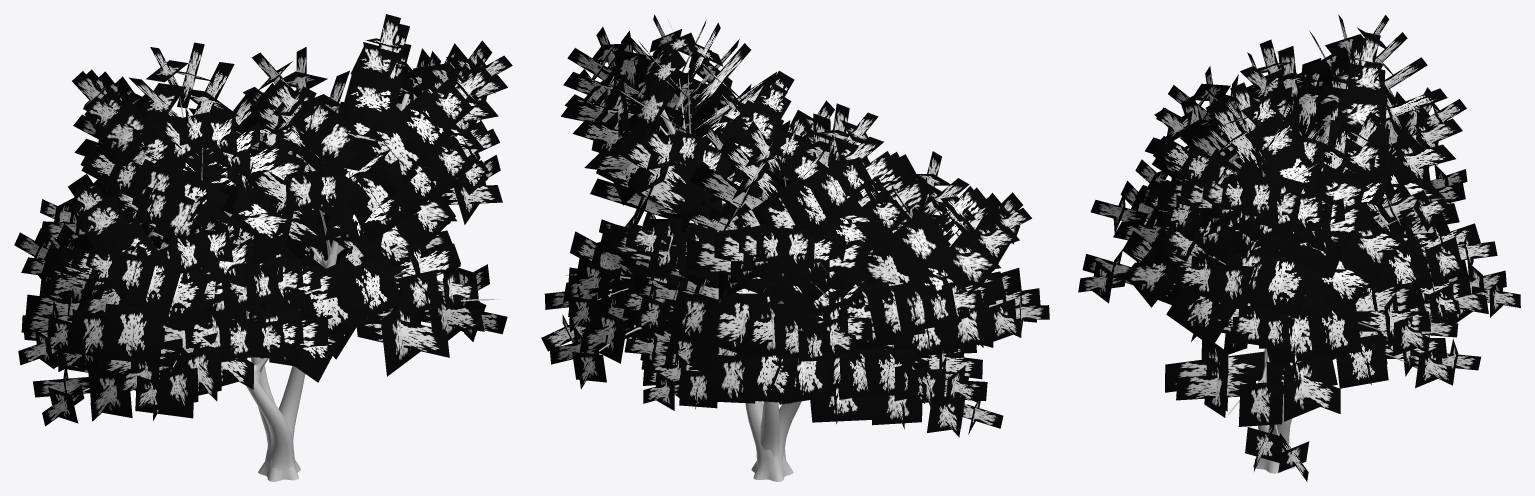
Rendered from Tree1.fbx.
3 views of the same model, side by side, from view 1: azimuth 30°, elevation 25°; view 2: azimuth 150°, elevation 25°; view 3: azimuth 270°, elevation 25° (orthographic). The views are drawn at different scales.
Visible parts, largest first — view 1: maxresdefault_1, _0; view 2: maxresdefault_1, _0; view 3: maxresdefault_1, _0.
Boxes of the visible parts, x1,y1,x2,y2 form: maxresdefault_1: (14,14,512,426); _0: (82,93,498,481); maxresdefault_1: (541,14,1049,437); _0: (565,69,941,481); maxresdefault_1: (1078,14,1520,481); _0: (1132,112,1471,473).
Size of the model in its own units: 510 by 444 by 422.
1 material, 1 textured.
